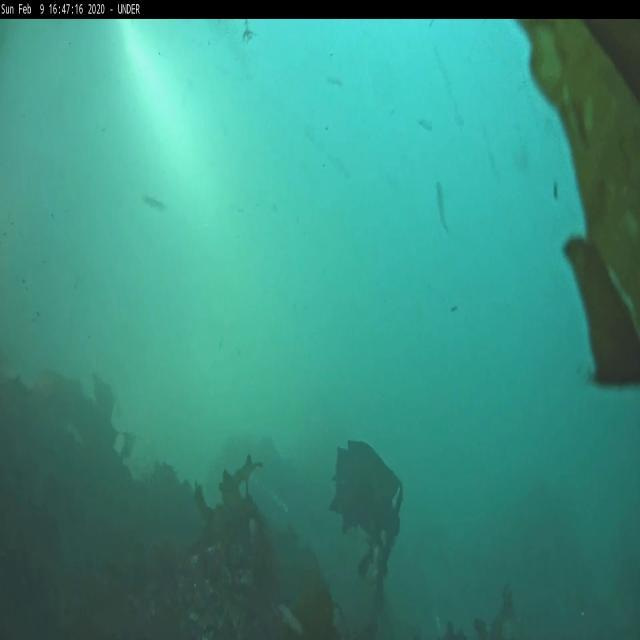fish: (434, 178, 448, 232)
